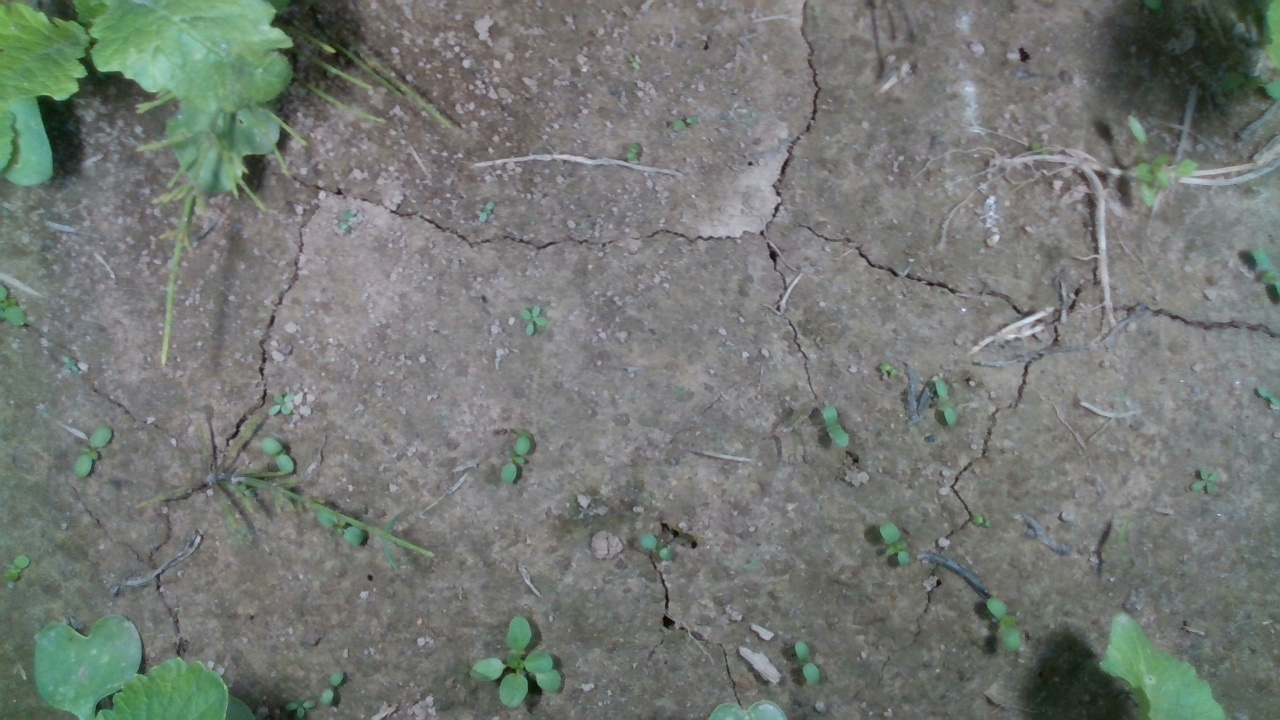weed: (71, 425, 114, 479), (985, 595, 1021, 651), (498, 435, 532, 486), (878, 520, 912, 567), (819, 403, 851, 449), (933, 377, 960, 428), (793, 639, 820, 686), (637, 530, 675, 561), (1187, 466, 1221, 498), (518, 301, 548, 337), (283, 692, 316, 719), (320, 670, 344, 707), (267, 389, 296, 418), (4, 552, 30, 583), (671, 112, 701, 133), (622, 50, 641, 73), (624, 141, 641, 163)
